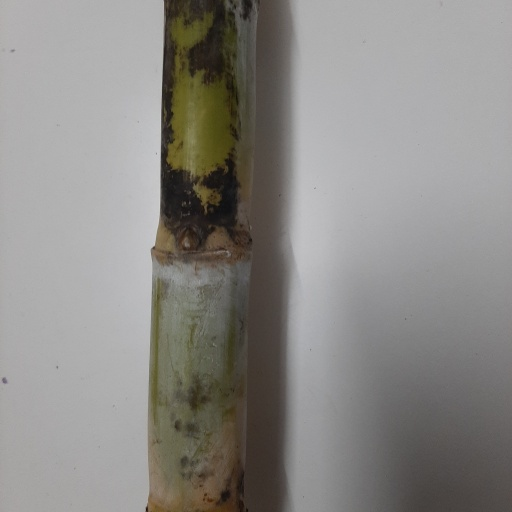Bud: (177, 227, 200, 252)
